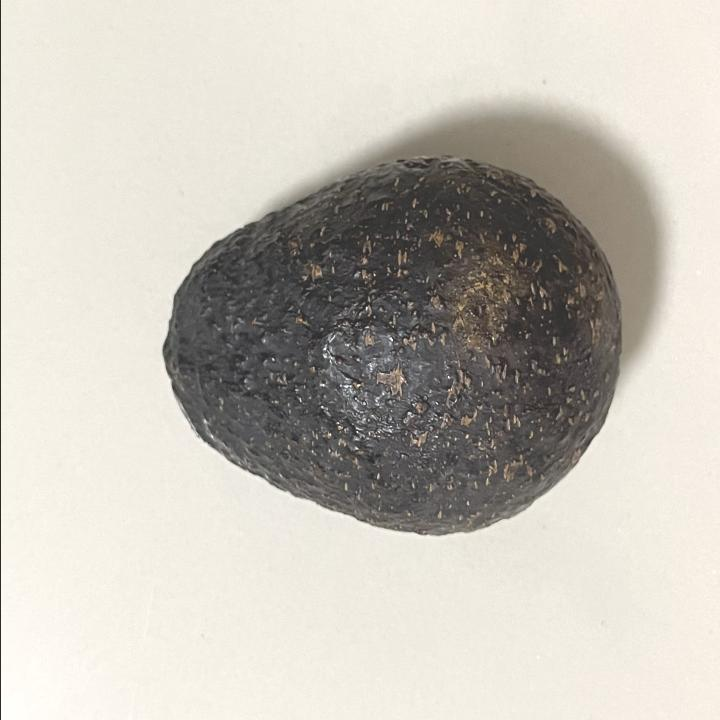Level2: (148, 149, 626, 549)
